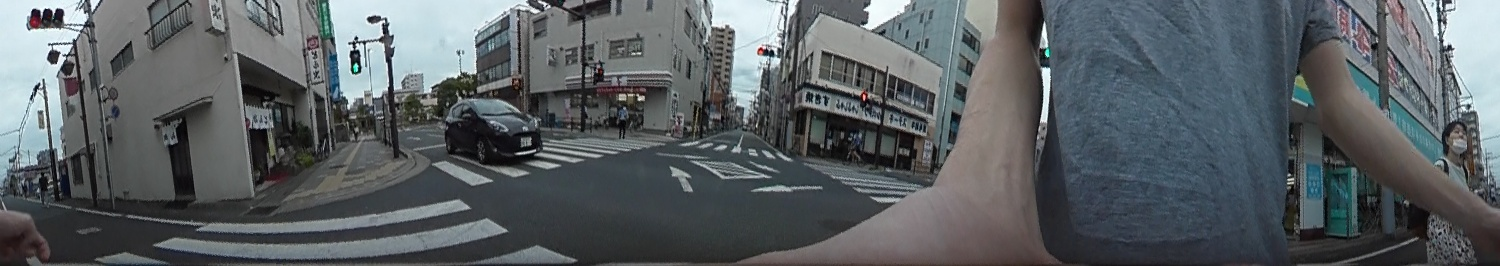difficult_person: (846, 129, 863, 161), (36, 169, 49, 204), (616, 102, 628, 135)
person: (1422, 114, 1486, 266)
